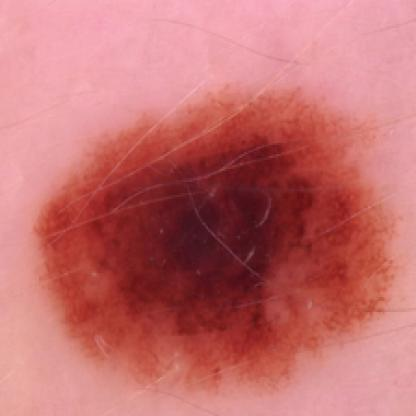benign: (26, 100, 399, 360)
